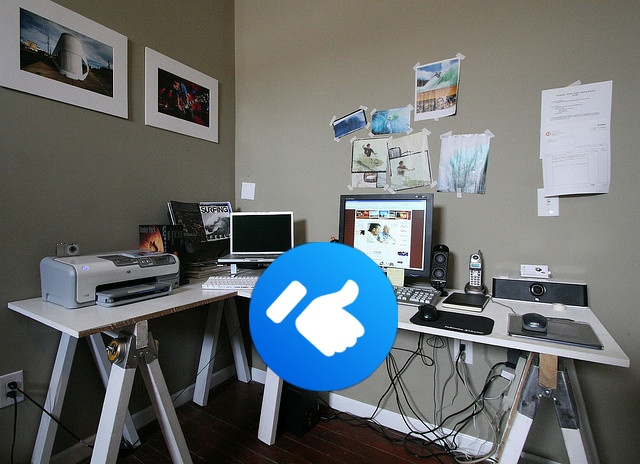like: (249, 242, 398, 391)
